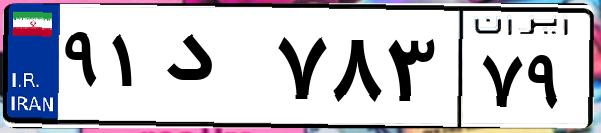1: (110, 28, 158, 98)
3: (385, 28, 445, 110)
7: (270, 28, 330, 110), (475, 38, 525, 113)
8: (330, 28, 385, 110)
9: (57, 26, 110, 100), (525, 38, 570, 115)
د: (158, 20, 270, 120)
